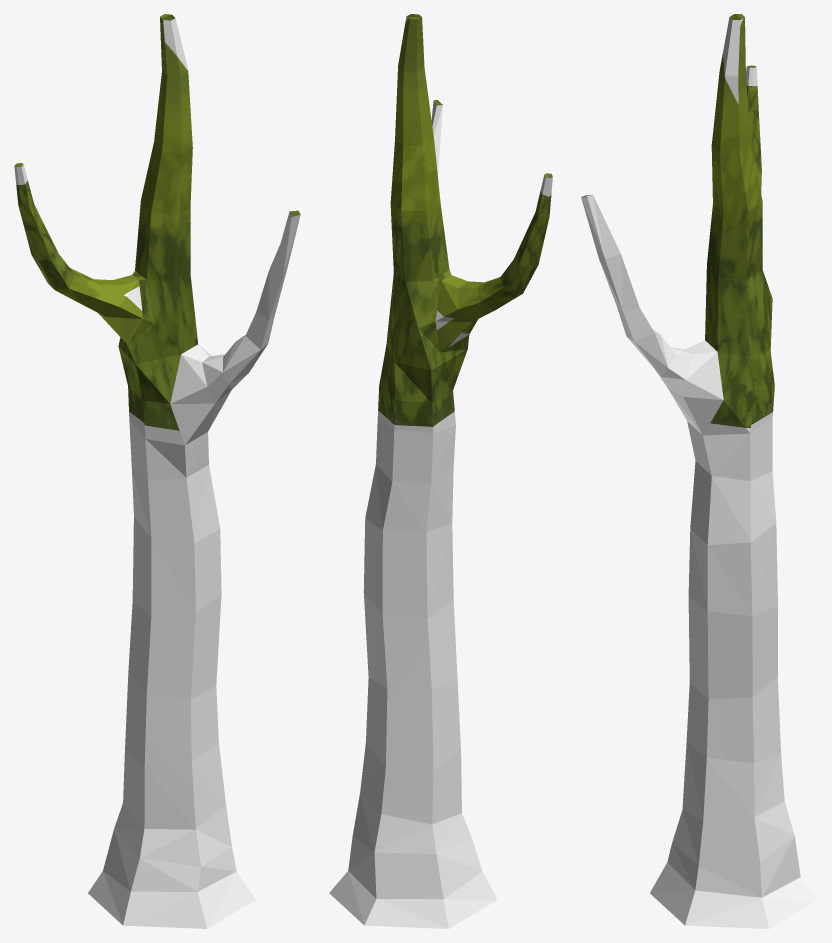
The model's file is Pohon 3.fbx.
3 renders of one model, left to right at view 1: azimuth 30°, elevation 25°; view 2: azimuth 150°, elevation 25°; view 3: azimuth 270°, elevation 25°, orthographic.
Parts seen in each view (by area): view 1: Pohon_3; view 2: Pohon_3; view 3: Pohon_3.
Part boxes in pixels (x1,y1,x2,y2): Pohon_3: [14, 14, 300, 928]; Pohon_3: [329, 14, 552, 928]; Pohon_3: [581, 14, 817, 928].
Size of the model in its own units: 1577 by 6196 by 1514.
